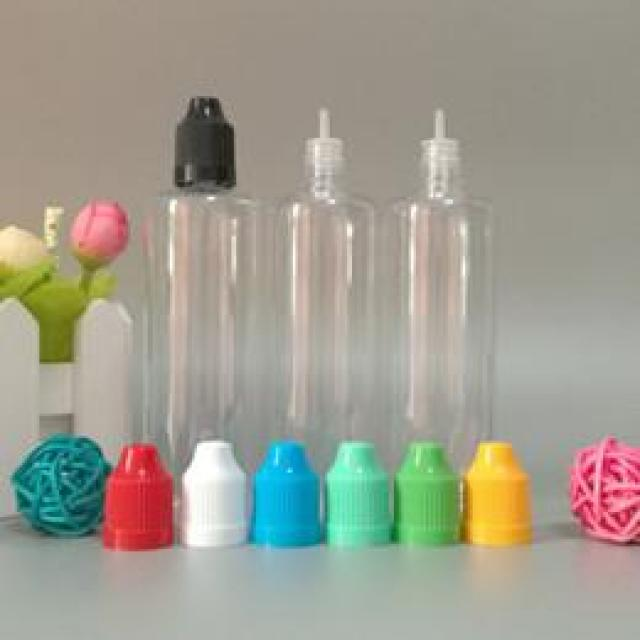plastic_bottle: (130, 85, 288, 444), (378, 92, 530, 447), (263, 70, 396, 451), (59, 243, 157, 452), (79, 431, 197, 559), (173, 427, 272, 567), (469, 425, 550, 563), (255, 435, 336, 566)
